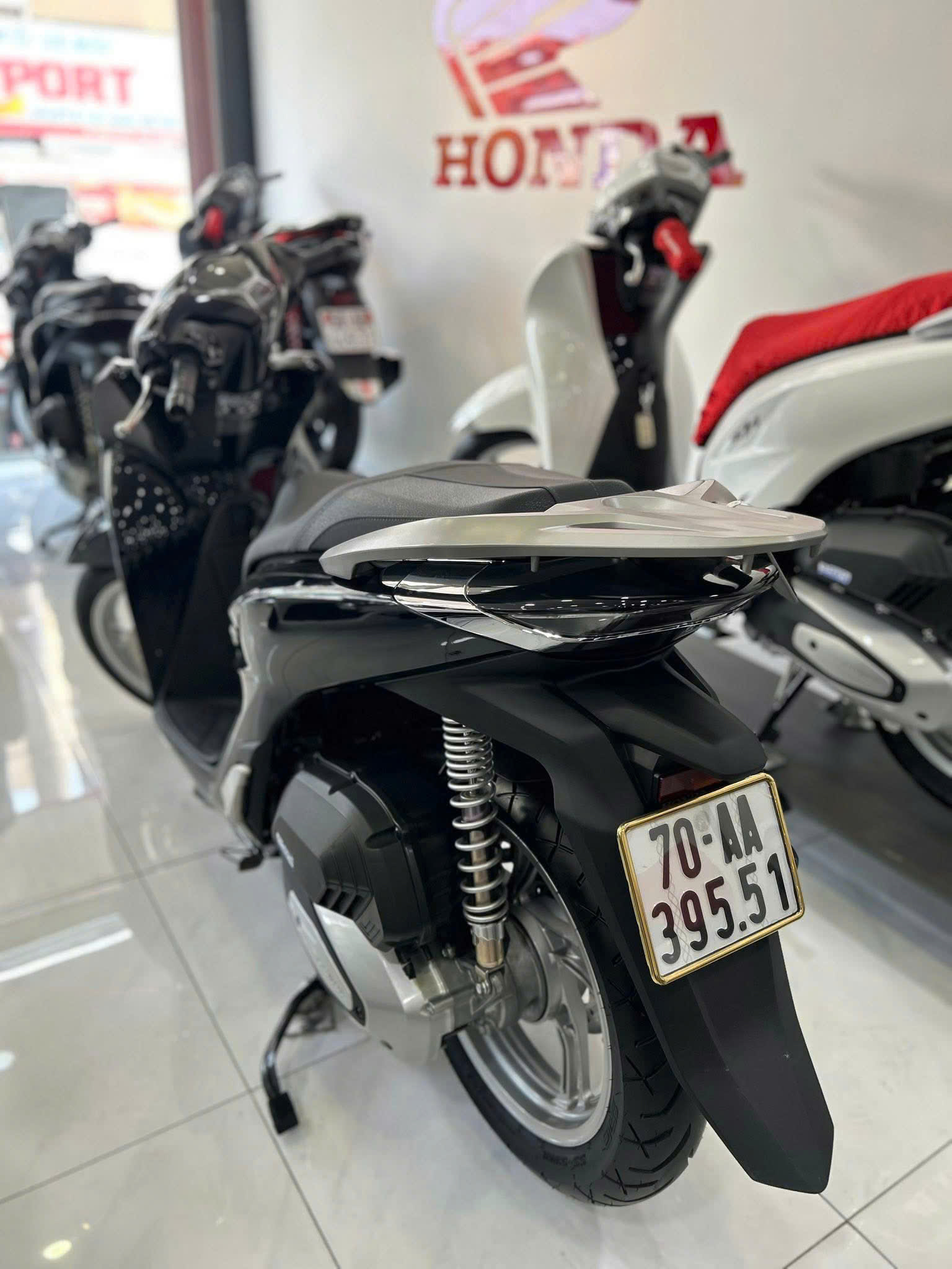Bien-so: (616, 773, 811, 993)
